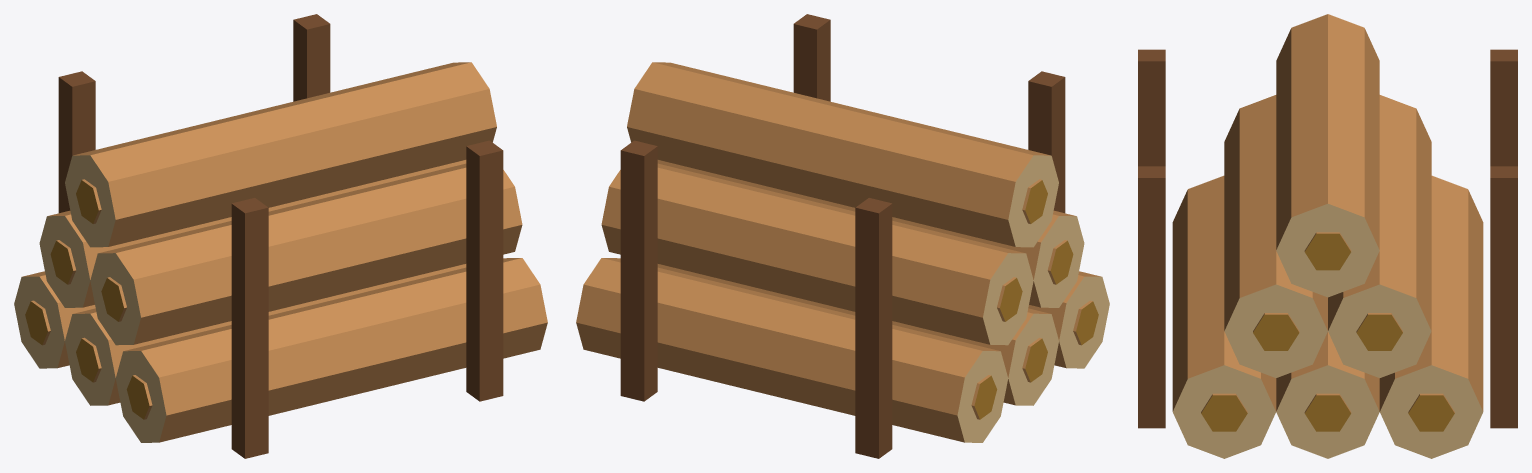
The model's file is prop_logs_m.fbx.
3 renders of one model, left to right at view 1: azimuth 30°, elevation 25°; view 2: azimuth 150°, elevation 25°; view 3: azimuth 270°, elevation 25°, orthographic.
Parts seen in each view (by area): view 1: prop_logs_m; view 2: prop_logs_m; view 3: prop_logs_m.
Part boxes in pixels (x1=…): prop_logs_m: x1=14, y1=14, x2=547, y2=458; prop_logs_m: x1=576, y1=14, x2=1109, y2=458; prop_logs_m: x1=1138, y1=14, x2=1517, y2=458.
Bounding box in the file's own units: 0.3168 × 0.1958 × 0.264.
